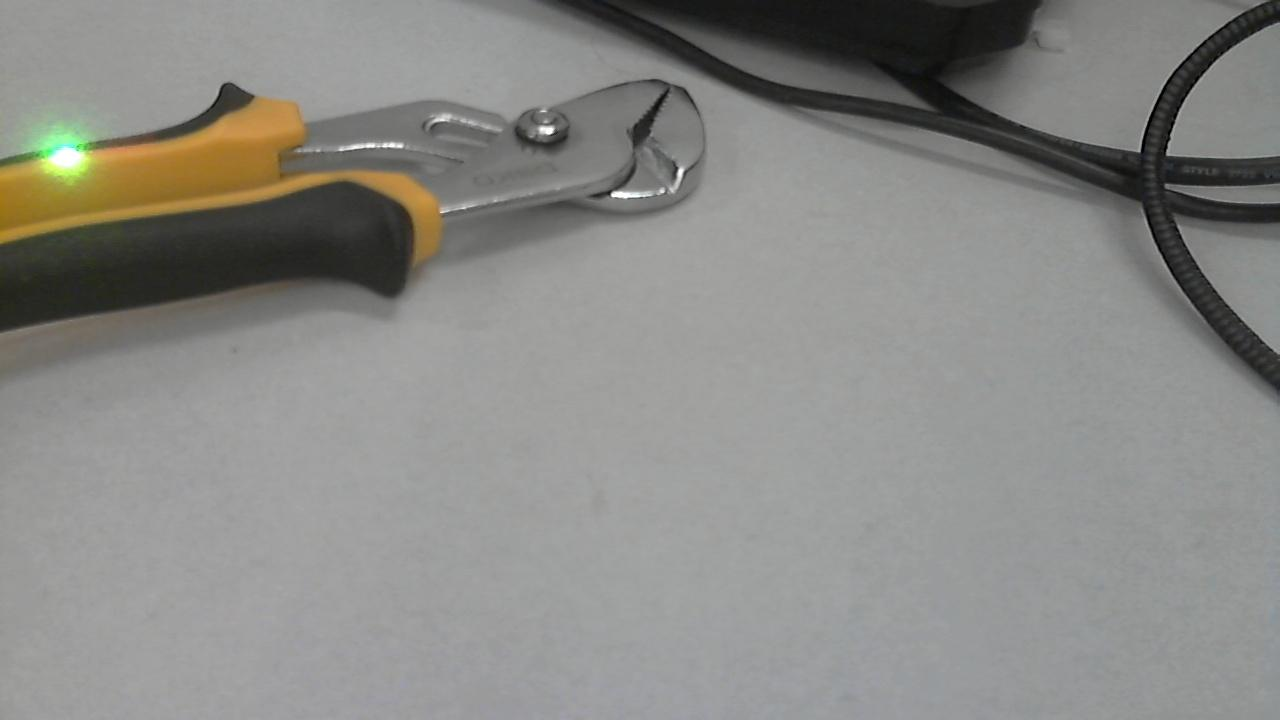Object slip joint pliers - Material plastic - Color yellow - Pdfname favaeaevcsr: (36, 126, 163, 184)
